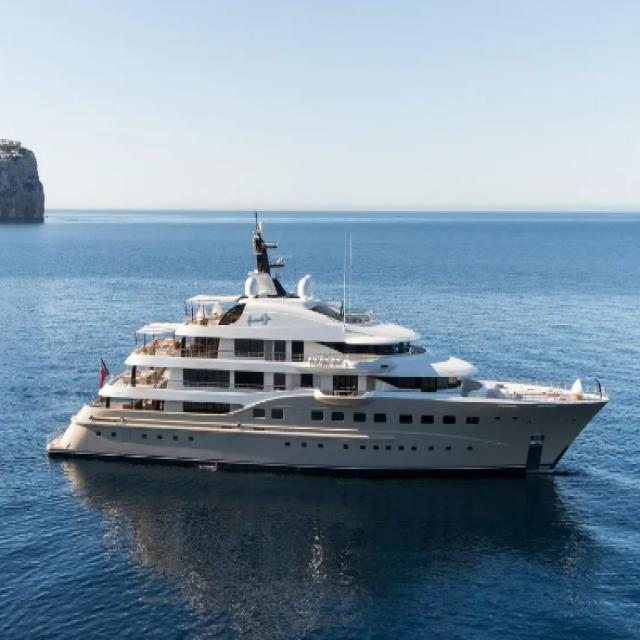passenger ship: (48, 219, 603, 522)
